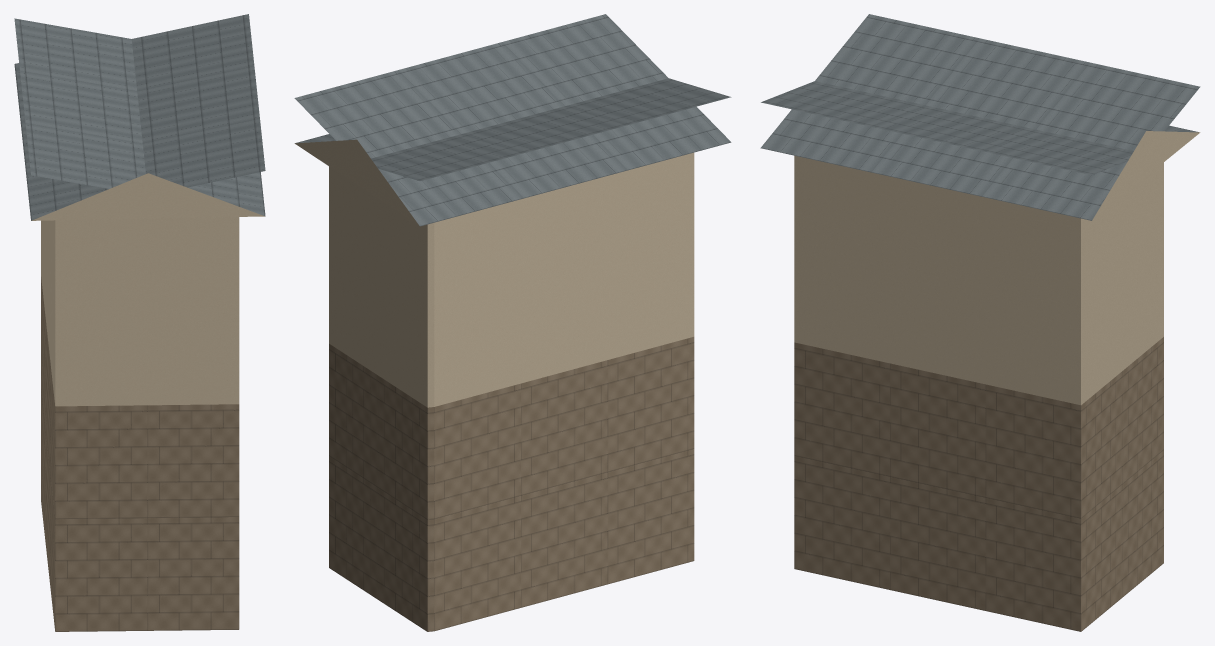
File: bld_c8_15_447.gltf
The picture shows the model from 3 angles, left to right: view 1: azimuth 30°, elevation 25°; view 2: azimuth 150°, elevation 25°; view 3: azimuth 270°, elevation 25°; orthographic projection.
Parts seen in each view (by area): view 1: bld_c8_15_447; view 2: bld_c8_15_447; view 3: bld_c8_15_447.
Boxes of the visible parts, box(x1,y1,x2,y2) form: bld_c8_15_447: box(14, 14, 265, 631); bld_c8_15_447: box(294, 14, 731, 631); bld_c8_15_447: box(760, 14, 1200, 631).
Bounding box in the file's own units: 7.56 × 10.3 × 8.72.
4 materials, 4 textured.
